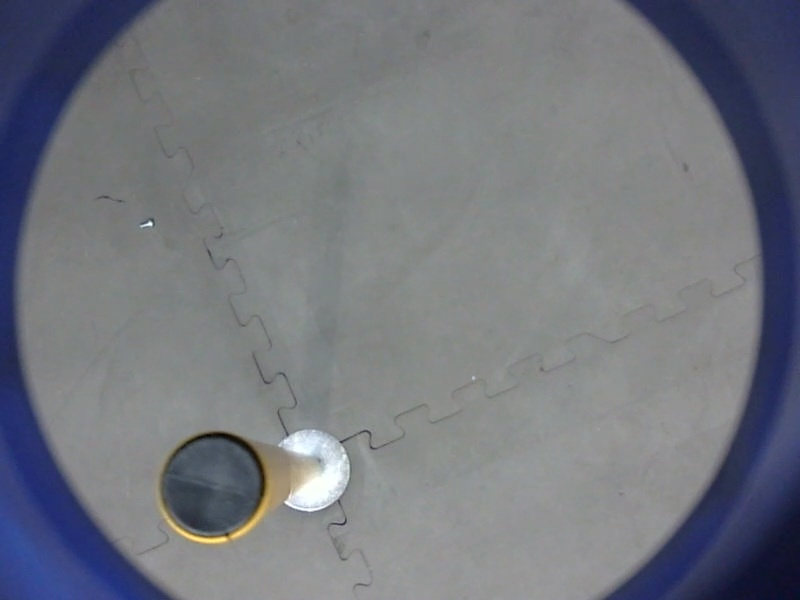tip: (149, 425, 276, 549)
